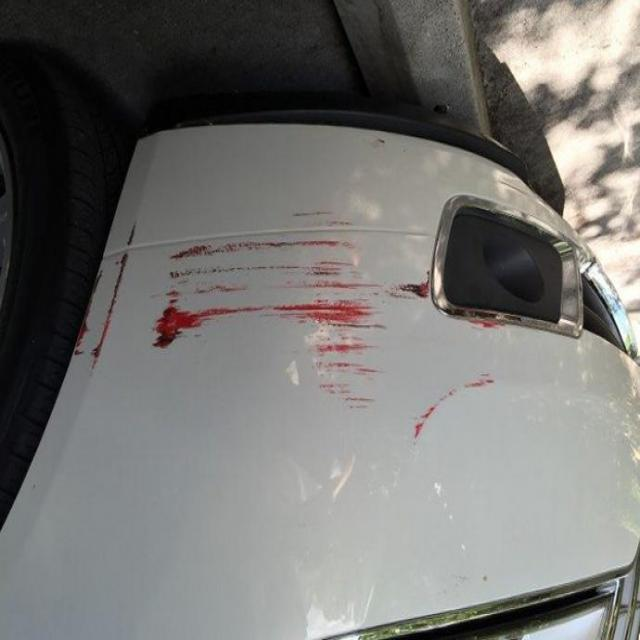scratch: (146, 198, 404, 409), (380, 244, 517, 337), (75, 198, 134, 386), (406, 350, 499, 448)
